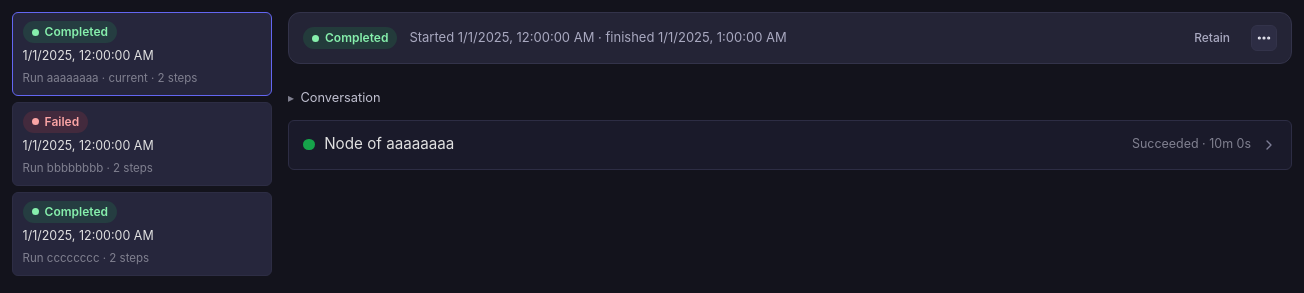
Scenario: RunsPanel run actions › deleting the current run moves the selection to the first remaining run
Expected: the text "Node of aaaaaaaa" is shown, top-left (324, 133), bottom-right (454, 156)
Click the button named "Run actions": {"x": 1264, "y": 38} top-left (1251, 25), bottom-right (1277, 51)
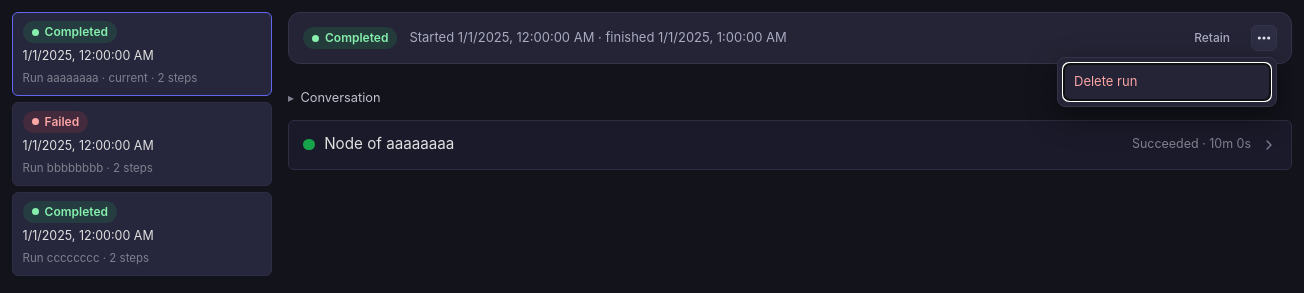
Click the menu item "Delete run": {"x": 1167, "y": 82} top-left (1064, 64), bottom-right (1270, 100)
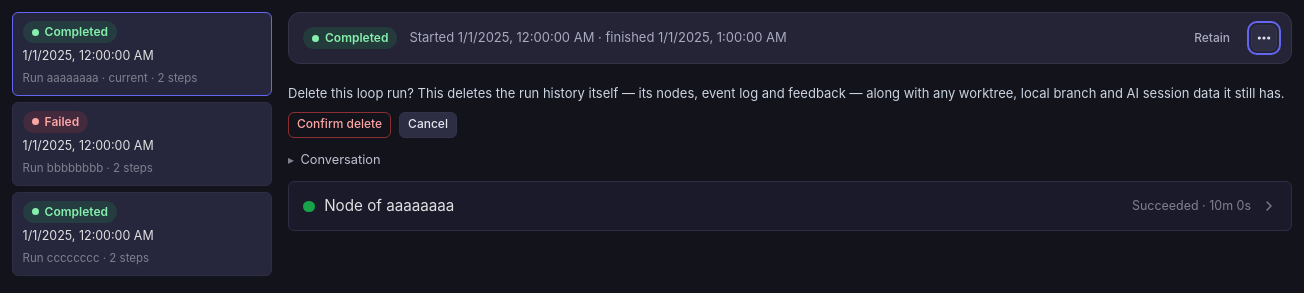
Click the button "Confirm delete": {"x": 340, "y": 124} top-left (288, 112), bottom-right (391, 138)
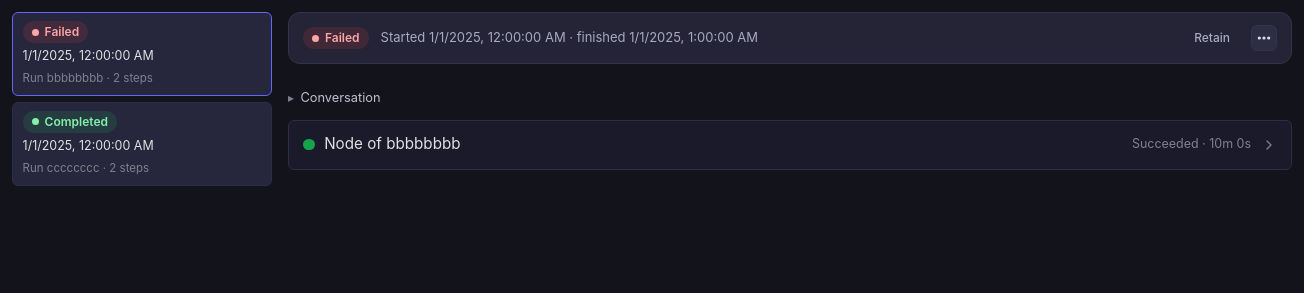
Expected: the text "Node of bbbbbbbb" is shown, top-left (324, 133), bottom-right (461, 156)
Expected: the button "Node of aaaaaaaa" is gone
Expected: the button "Run aaaaaaaa" is gone
